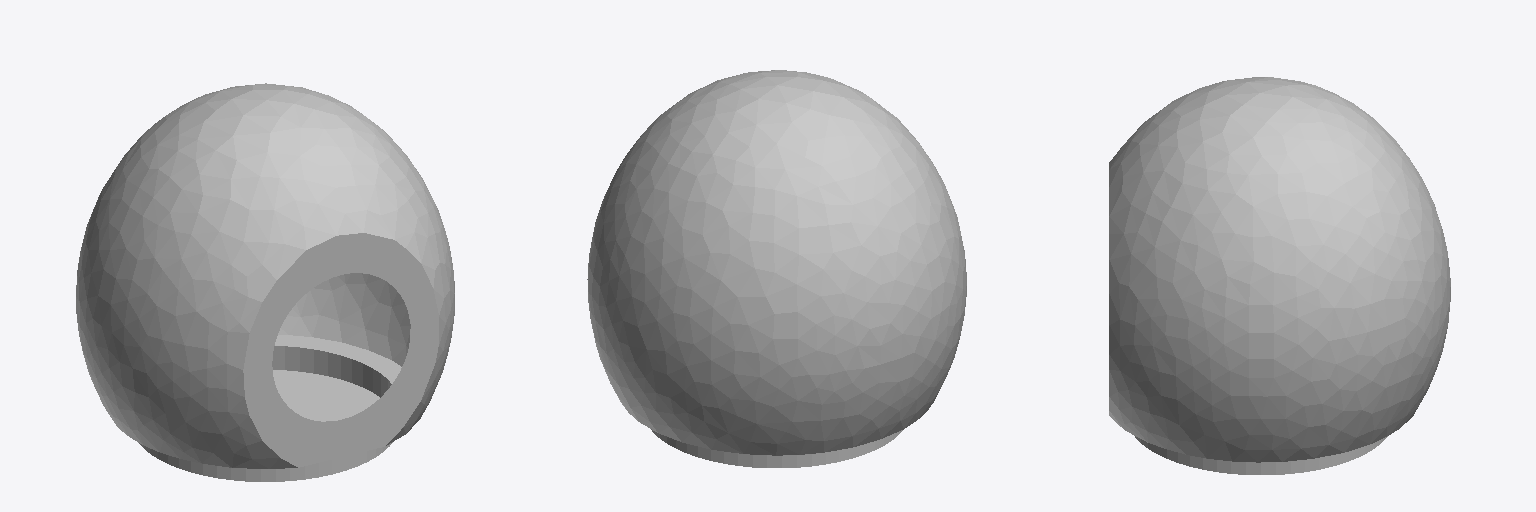
The model's file is kuka-link6.obj.
3 views of the same model, side by side, from view 1: azimuth 30°, elevation 25°; view 2: azimuth 150°, elevation 25°; view 3: azimuth 270°, elevation 25° (orthographic).
Parts seen in each view (by area): view 1: object; view 2: object; view 3: object.
Part boxes in pixels (x1,y1,x2,y2): object: (76,83,454,481); object: (587,70,966,467); object: (1109,77,1450,474).
Bounding box in the file's own units: 142 × 135 × 128.